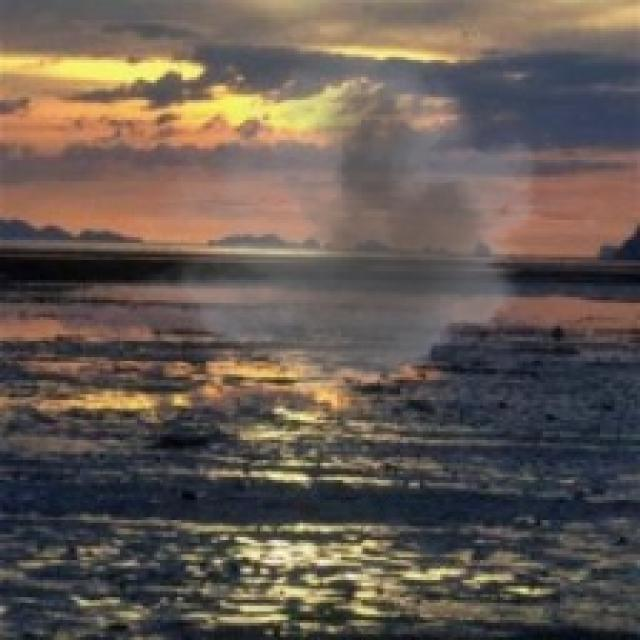smoke: (132, 49, 557, 414)
